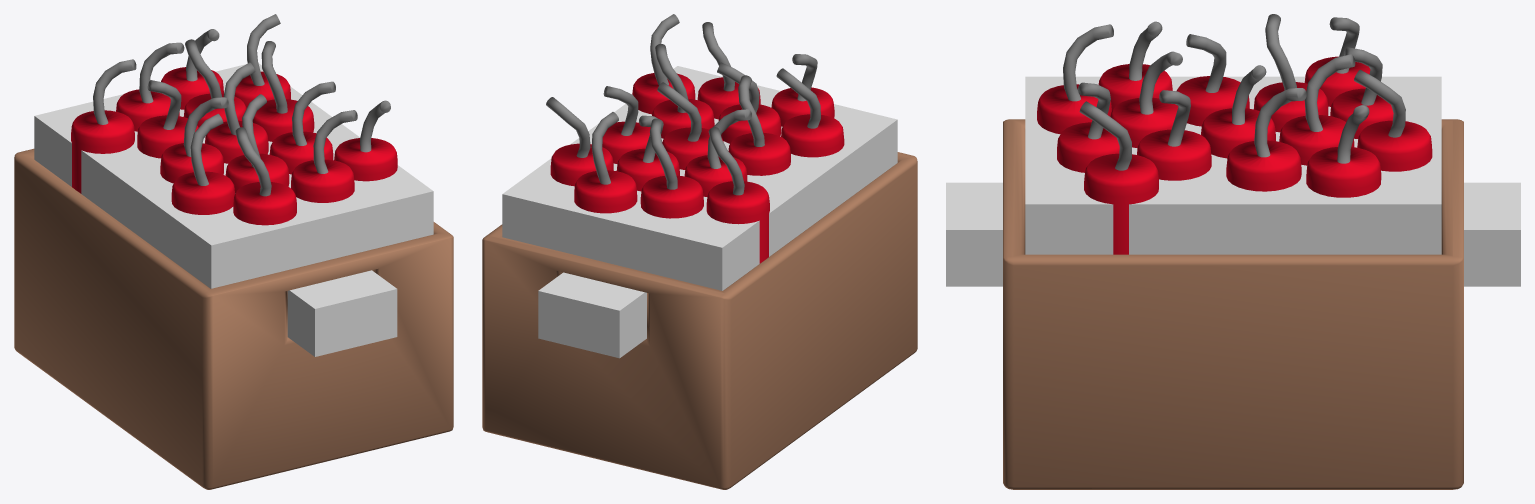
Rendered from OC_Dinamite.fbx.
3 renders of one model, left to right at view 1: azimuth 30°, elevation 25°; view 2: azimuth 150°, elevation 25°; view 3: azimuth 270°, elevation 25°, orthographic. The views are drawn at different scales.
Visible parts, largest first — view 1: Cube, Cube.001, Cube.002, Cylinder.014, Cylinder.013, Cylinder.009, Cylinder.012, Cylinder.015, Cylinder.008, Cylinder.011, Cylinder.007, Cylinder.001 (+6 smaller); view 2: Cube, Cube.001, Cube.002, Cylinder.014, Cylinder.004, Cylinder.005, Cylinder.009, Cylinder.008, Cylinder.003, Cylinder, Cylinder.011, Cylinder.001 (+6 smaller); view 3: Cube, Cube.001, Cube.002, Cylinder.015, Cylinder.001, Cylinder.003, Cylinder.004, Cylinder.011, Cylinder.002, Cylinder.012, Cylinder, Cylinder.010 (+6 smaller).
Part boxes in pixels (x1=…): Cube: x1=14, y1=148, x2=453, y2=489; Cube.001: x1=34, y1=63, x2=433, y2=288; Cube.002: x1=287, y1=270, x2=397, y2=356; Cylinder.014: x1=71, y1=59, x2=136, y2=193; Cylinder.013: x1=291, y1=110, x2=357, y2=202; Cylinder.009: x1=171, y1=113, x2=234, y2=214; Cylinder.012: x1=233, y1=127, x2=296, y2=225; Cylinder.015: x1=334, y1=100, x2=397, y2=181; Cylinder.008: x1=160, y1=97, x2=228, y2=183; Cylinder.011: x1=269, y1=81, x2=335, y2=174; Cylinder.007: x1=137, y1=80, x2=198, y2=158; Cylinder.001: x1=252, y1=41, x2=314, y2=141; Cube: x1=482, y1=152, x2=917, y2=489; Cube.001: x1=502, y1=66, x2=897, y2=290; Cube.002: x1=538, y1=272, x2=646, y2=358; Cylinder.014: x1=706, y1=127, x2=769, y2=263; Cylinder.004: x1=574, y1=112, x2=637, y2=213; Cylinder.005: x1=640, y1=118, x2=703, y2=218; Cylinder.009: x1=776, y1=68, x2=844, y2=157; Cylinder.008: x1=728, y1=75, x2=790, y2=175; Cylinder.003: x1=546, y1=97, x2=613, y2=186; Cylinder: x1=657, y1=82, x2=723, y2=169; Cylinder.011: x1=652, y1=44, x2=714, y2=138; Cylinder.001: x1=602, y1=86, x2=650, y2=163; Cube: x1=1003, y1=119, x2=1463, y2=489; Cube.001: x1=1025, y1=76, x2=1441, y2=254; Cube.002: x1=946, y1=182, x2=1520, y2=286; Cylinder.015: x1=1079, y1=101, x2=1158, y2=254; Cylinder.001: x1=1226, y1=88, x2=1306, y2=191; Cylinder.003: x1=1306, y1=105, x2=1381, y2=197; Cylinder.004: x1=1354, y1=69, x2=1432, y2=171; Cylinder.011: x1=1137, y1=90, x2=1211, y2=180; Cylinder.002: x1=1279, y1=54, x2=1355, y2=165; Cylinder.012: x1=1037, y1=24, x2=1113, y2=134; Cylinder: x1=1201, y1=65, x2=1275, y2=158; Cylinder.010: x1=1110, y1=51, x2=1182, y2=148.
Size of the model in its own units: 265 by 318 by 449.
